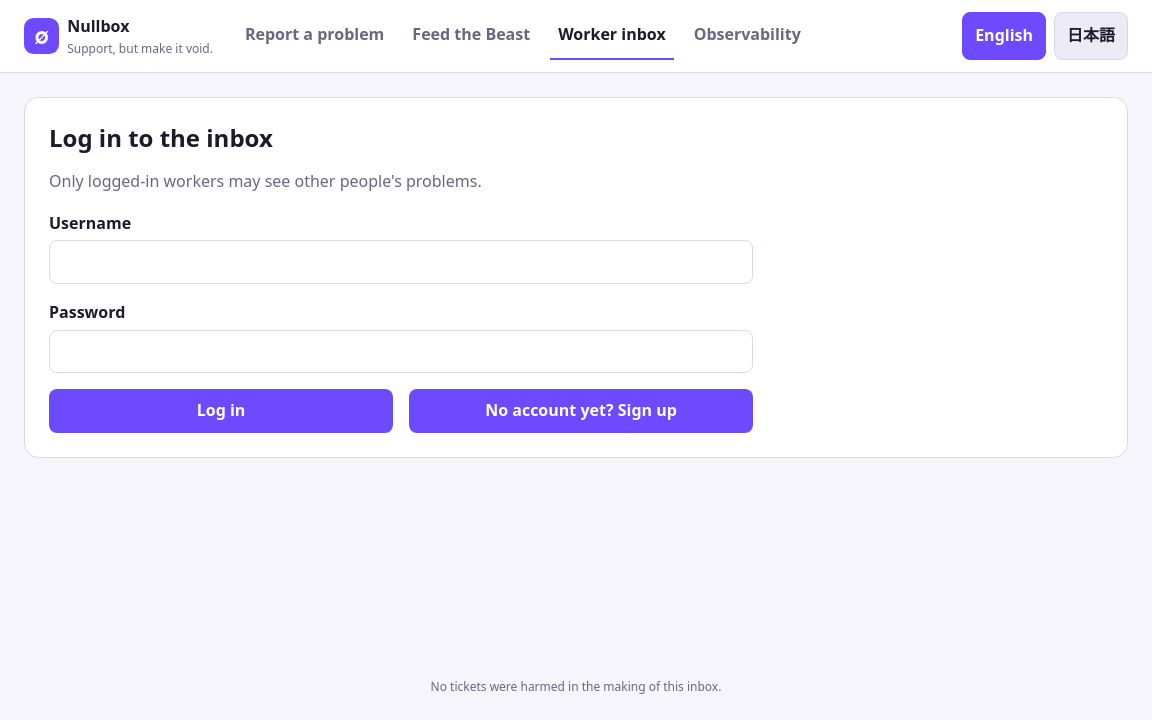
Test case: RequireWorker › shows invalid_credentials and stores nothing
Type "alice" into the field labelled "Username" at (401,262), box [49,240,753,284]
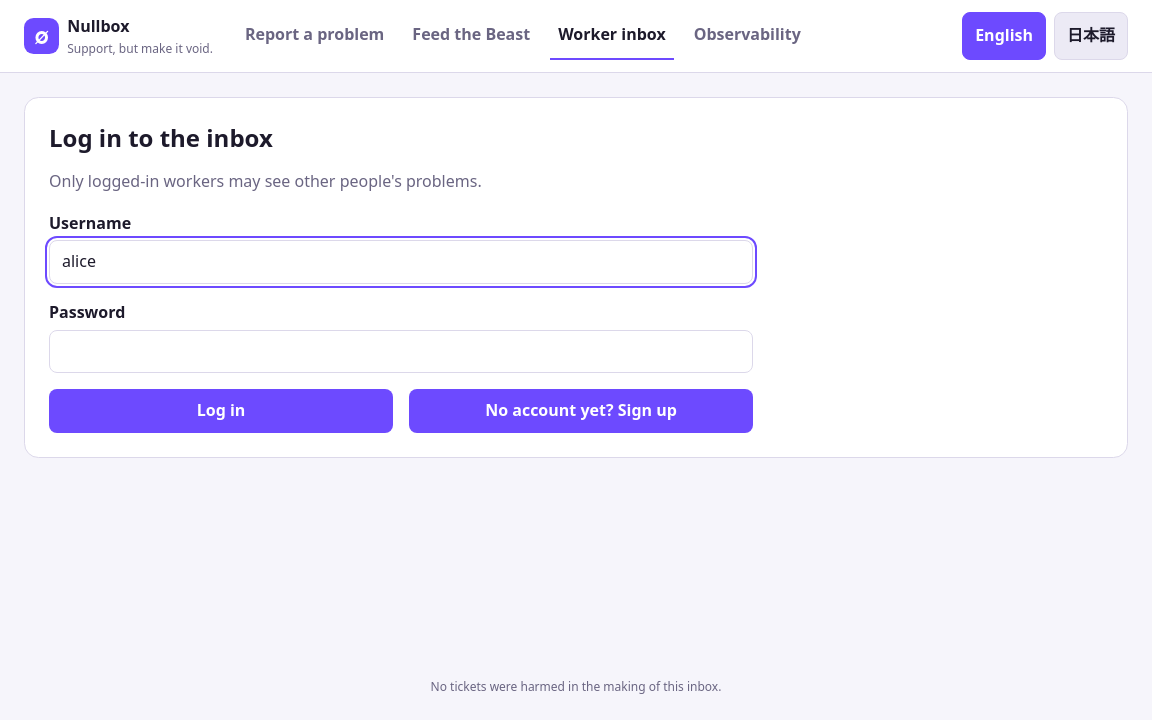
Type "wrong password!" into the password field labelled "Password" at (401,351), box [49,330,753,373]
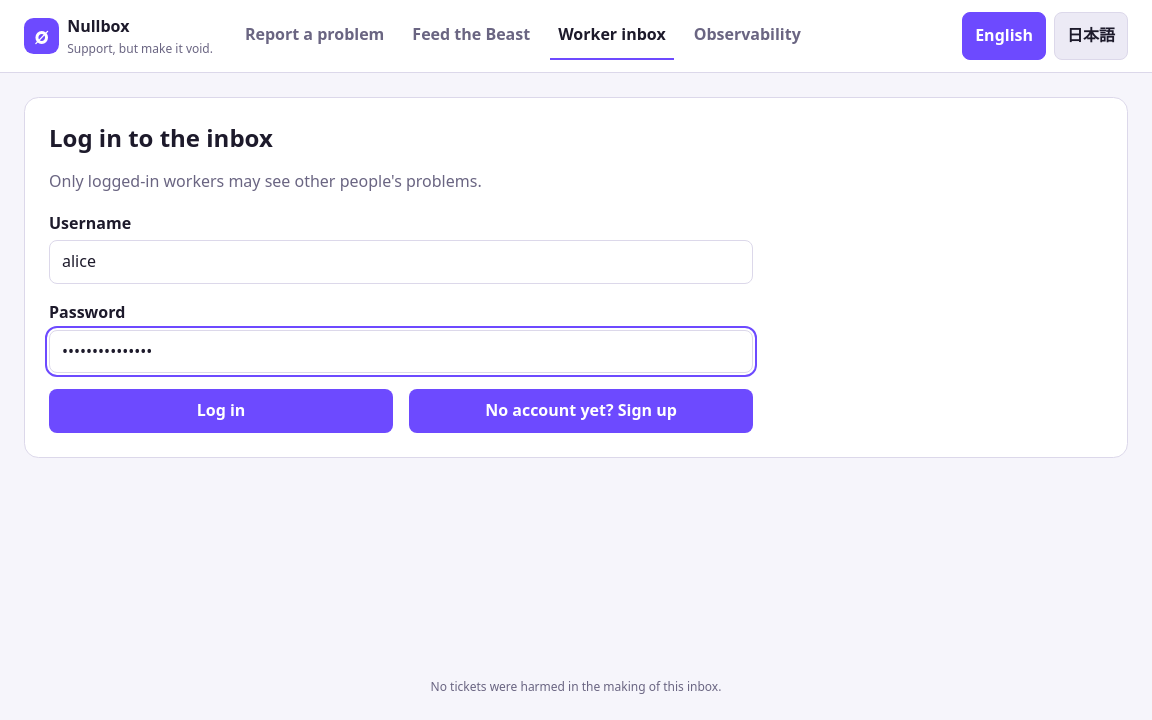
Click the button "Log in" at (221,411), box [49,389,393,433]
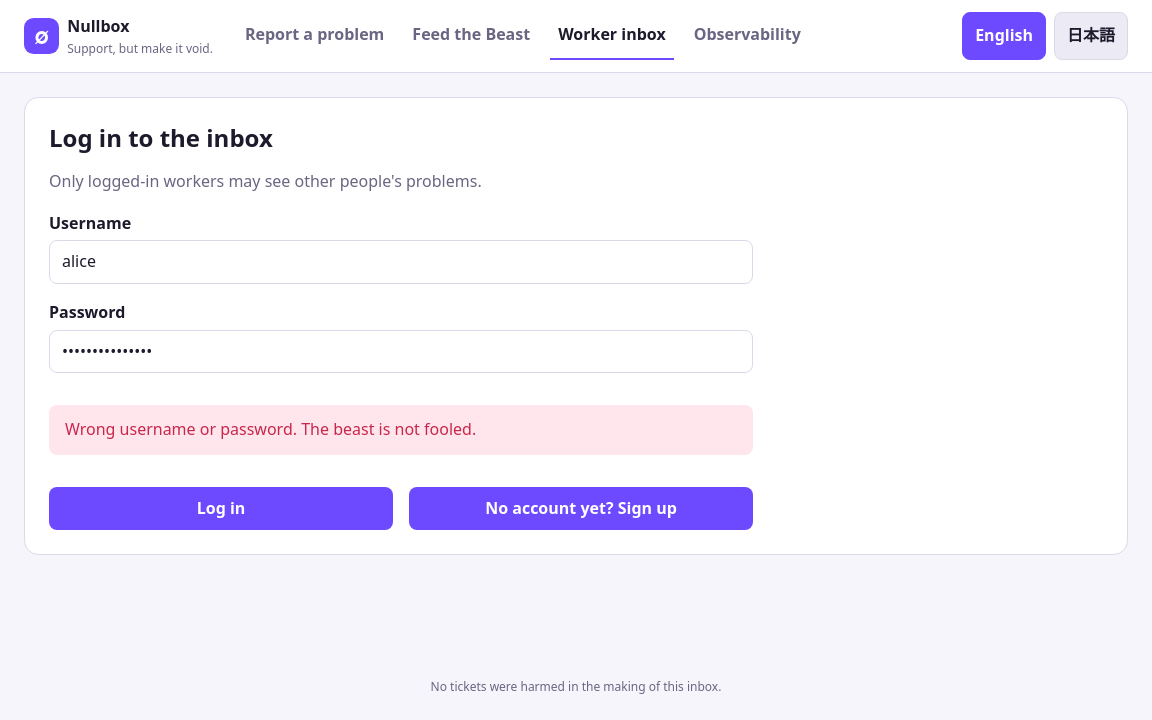
Result: the message reads "Wrong username or password. The beast is not fooled." at [65,418,476,440]
